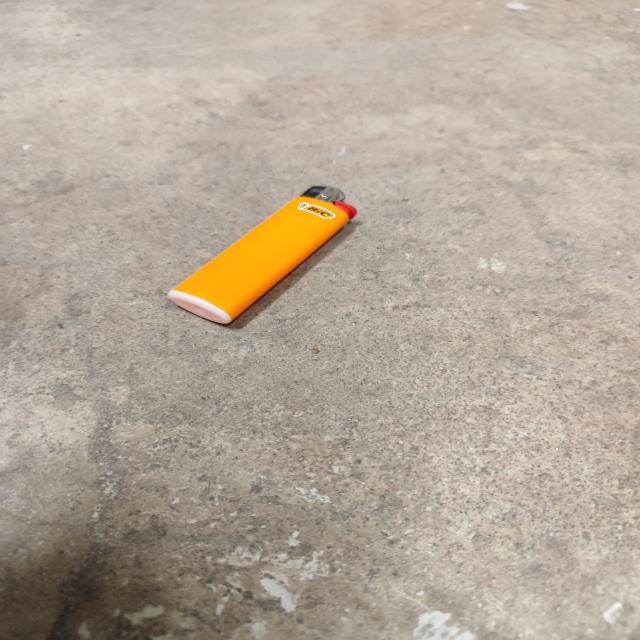lighter: (168, 186, 356, 323)
